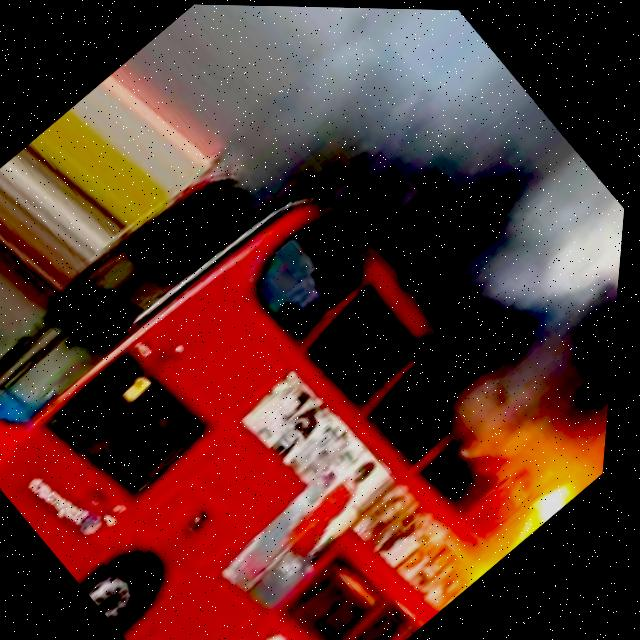Fire: (466, 464, 592, 580)
Smoke: (239, 5, 640, 503)
